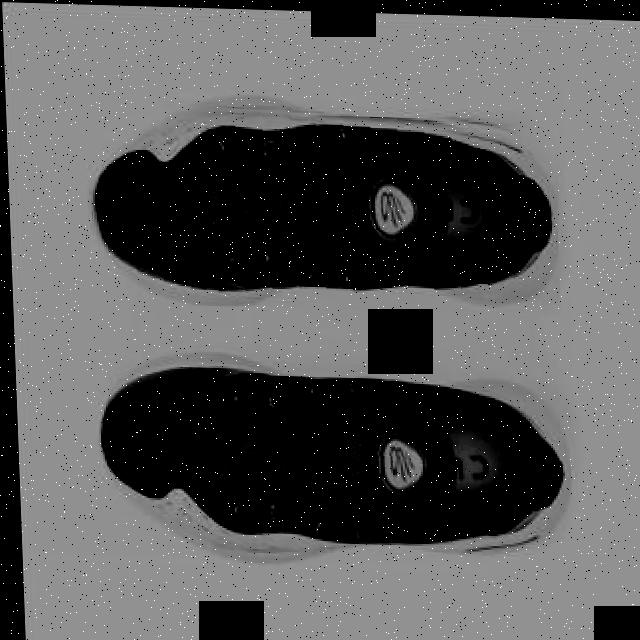shoe: (88, 345, 570, 572), (85, 98, 559, 313)
